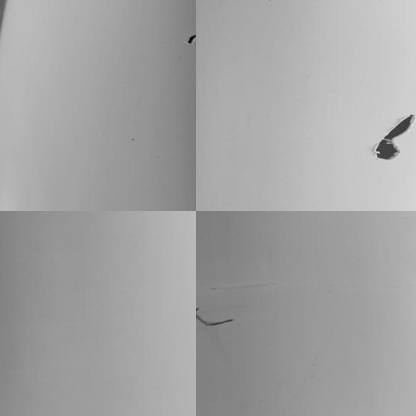fengxi: (198, 310, 235, 329)
kongdong: (375, 112, 412, 164), (185, 31, 193, 49)
